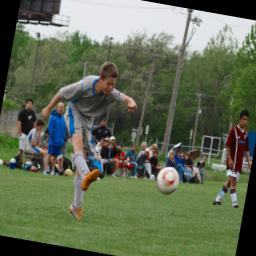football: (154, 164, 182, 196)
